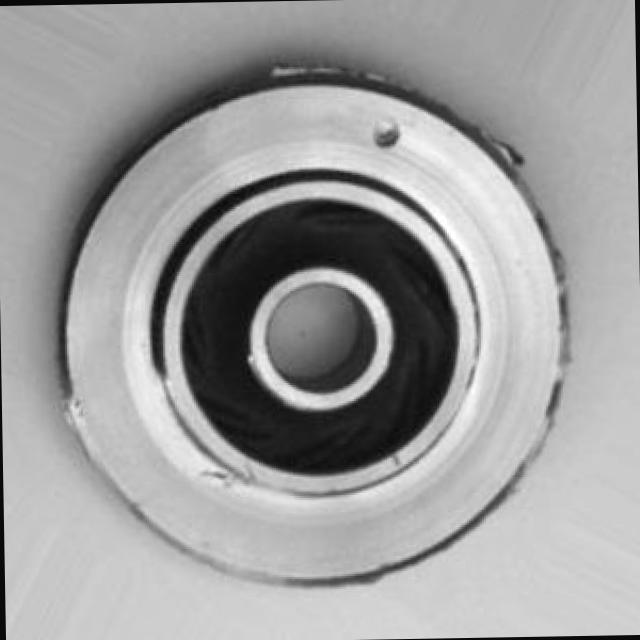Defect: (365, 104, 405, 150)
